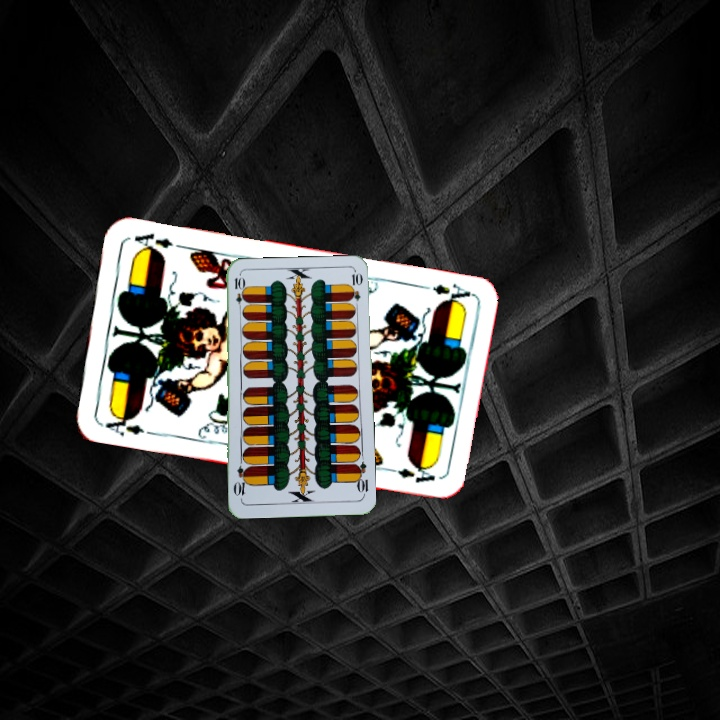E10: (351, 458, 371, 499), (230, 273, 245, 314)
EA: (414, 279, 473, 308), (101, 409, 155, 438)
